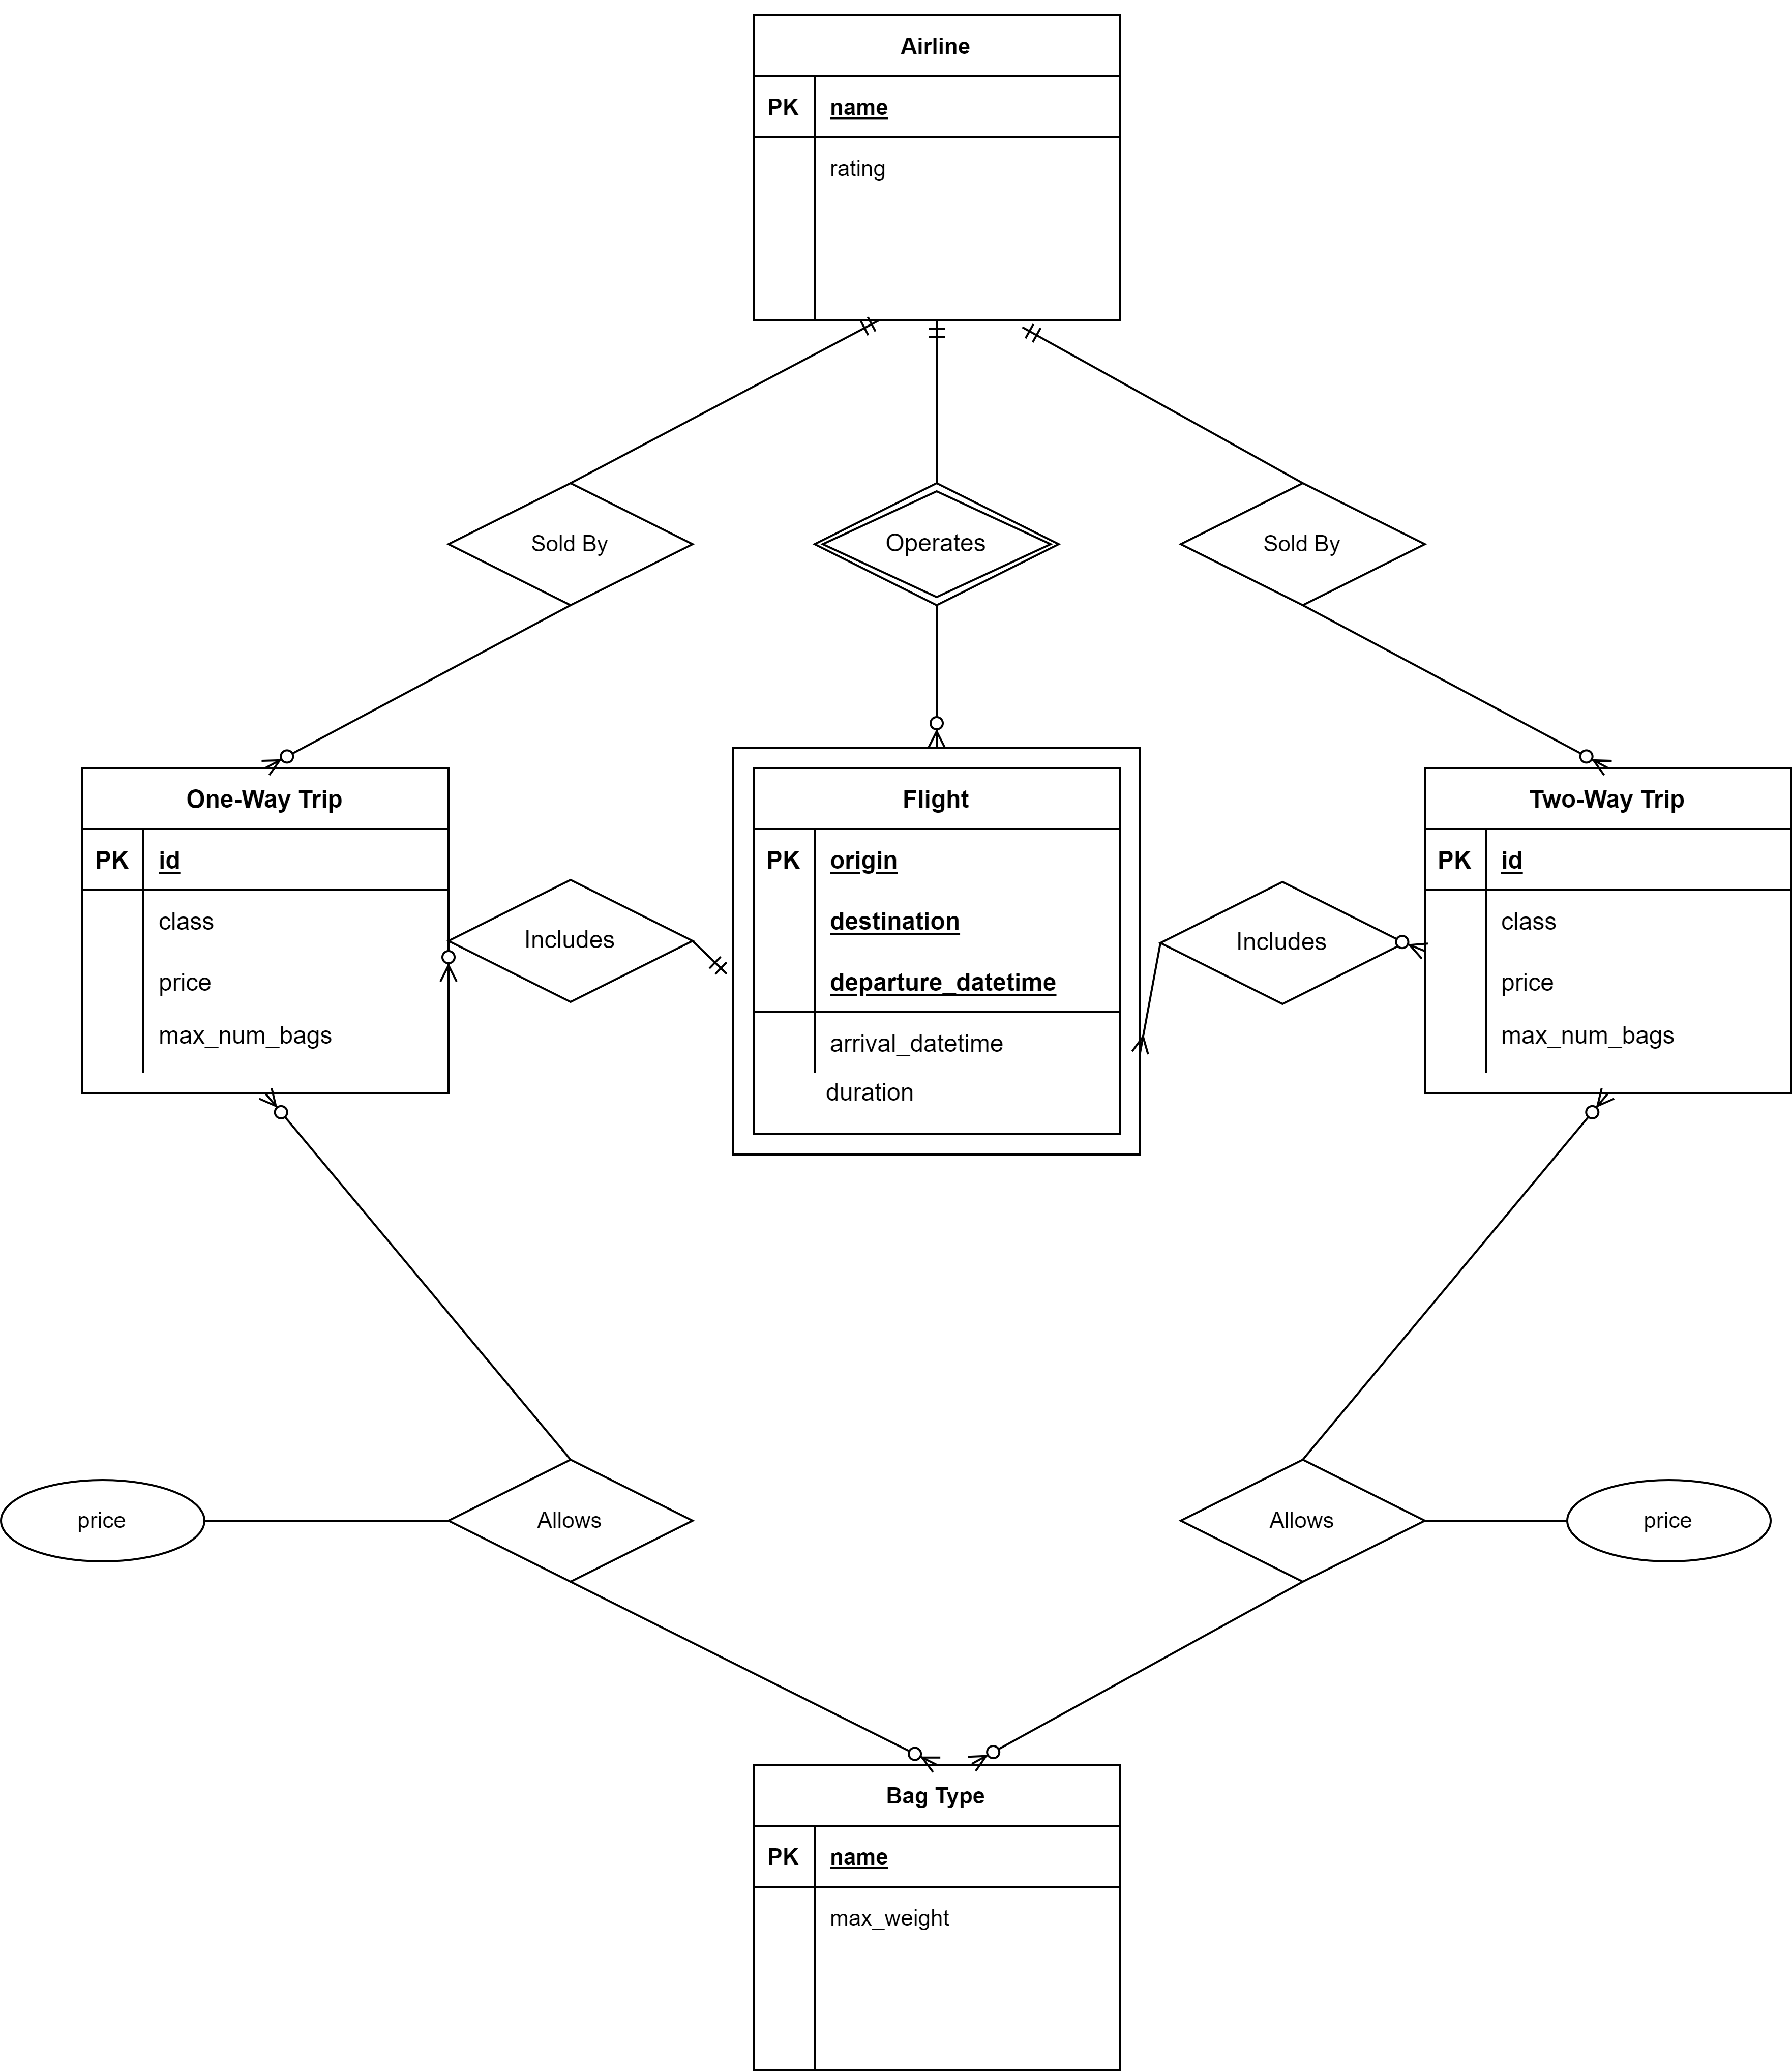entity: (79, 764, 449, 1092), (1422, 766, 1792, 1092), (748, 14, 1123, 319), (750, 1765, 1120, 2069)
ident_rel: (812, 484, 1058, 608)
many: (900, 701, 980, 755), (966, 1712, 1026, 1782), (239, 731, 327, 778), (426, 926, 484, 995), (1558, 722, 1632, 775), (885, 1724, 954, 1780), (246, 1083, 308, 1125), (1570, 1081, 1623, 1129), (1120, 1021, 1171, 1064), (1391, 923, 1428, 969)
one: (834, 312, 896, 349), (1000, 315, 1063, 349), (699, 933, 738, 986), (917, 321, 966, 356)
rel: (452, 1458, 695, 1585), (452, 481, 695, 606), (1181, 484, 1426, 608), (452, 882, 692, 1007), (1183, 1462, 1424, 1585), (1162, 886, 1396, 1011)
rel_attr: (1565, 1481, 1774, 1567), (0, 1481, 211, 1560)
weak_entity: (732, 747, 1144, 1155)
